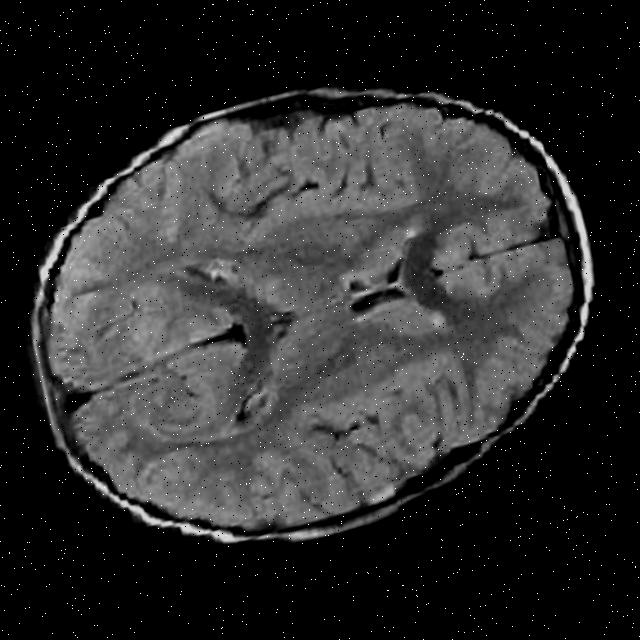NoTumor: (0, 13, 639, 611)
